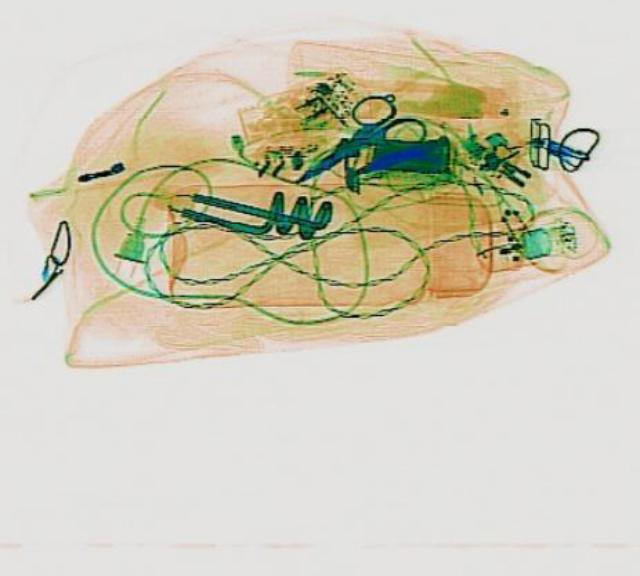Scissors: (266, 79, 432, 206)
